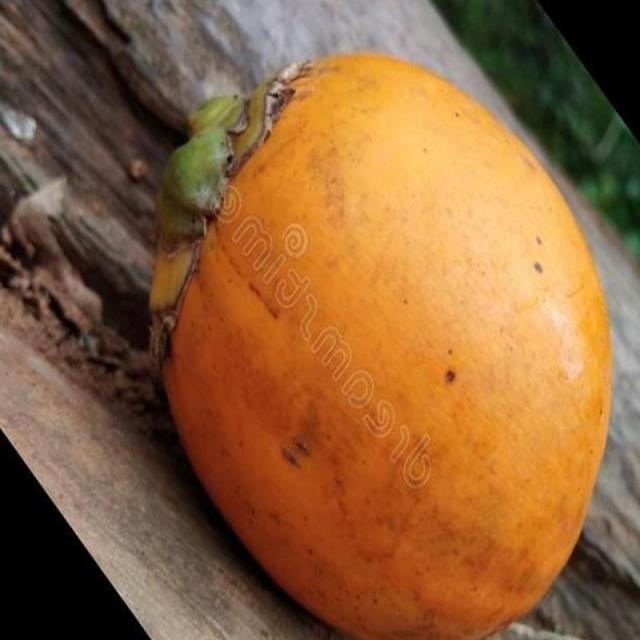good: (149, 53, 614, 639)
